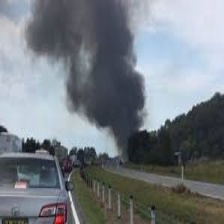smoke: (27, 1, 144, 139)
